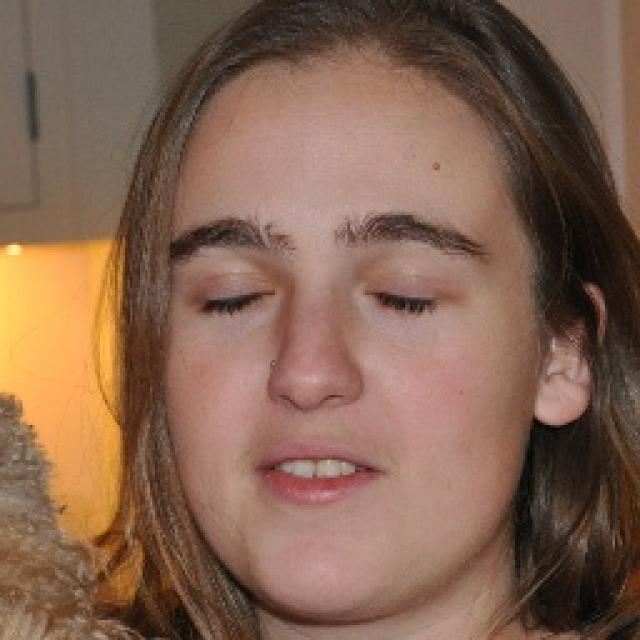earlobe: (537, 383, 591, 432)
eye: (364, 277, 445, 320), (194, 275, 276, 317)
nose: (271, 390, 358, 436)
wholeear: (535, 281, 610, 427)
